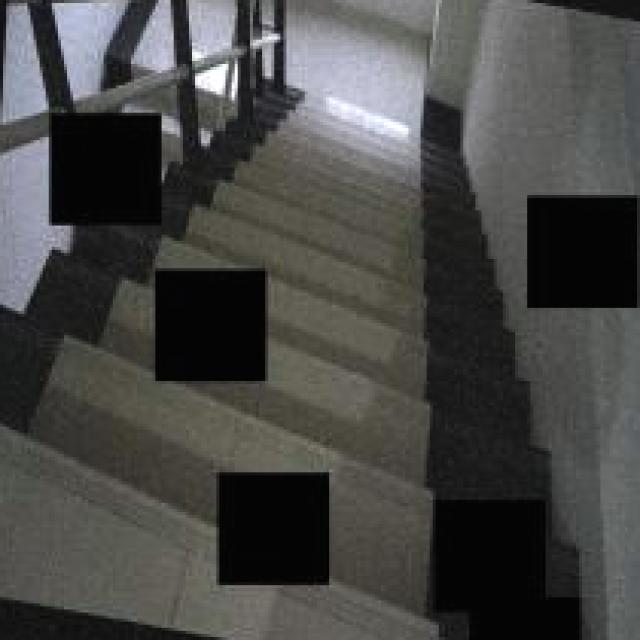downstair: (294, 160, 467, 465)
